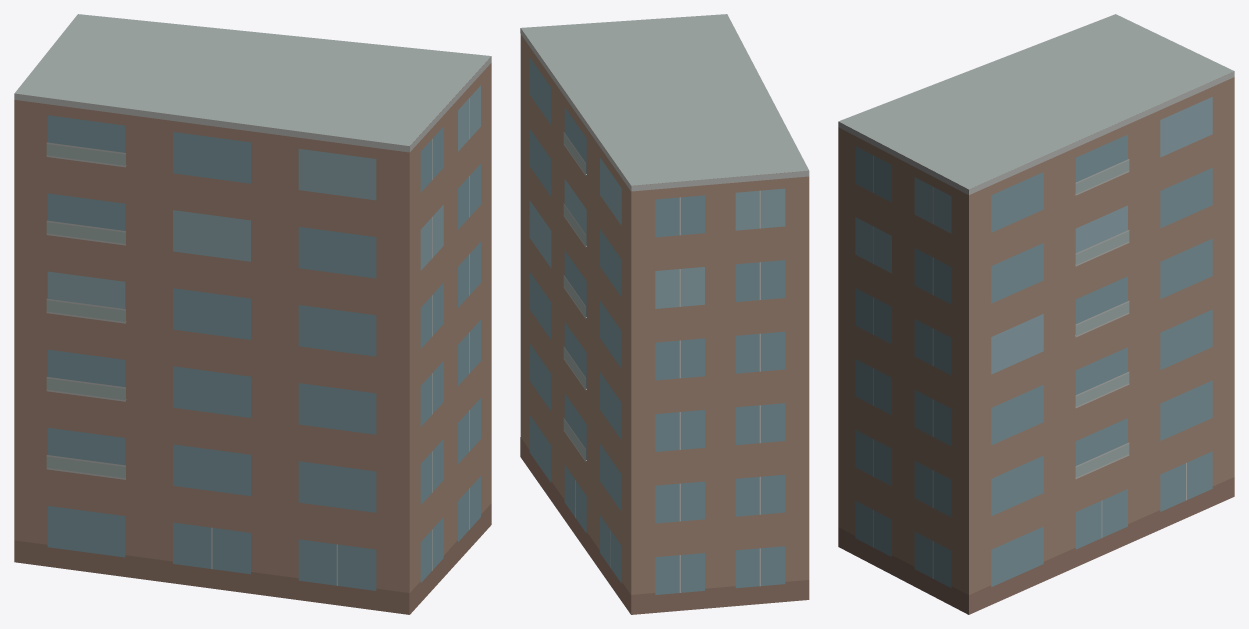
The model's file is survey-upis-32727617.glb.
3 renders of one model, left to right at view 1: azimuth 30°, elevation 25°; view 2: azimuth 150°, elevation 25°; view 3: azimuth 270°, elevation 25°, orthographic. The views are drawn at different scales.
Parts seen in each view (by area): view 1: survey-upis-32727617.tmp; view 2: survey-upis-32727617.tmp; view 3: survey-upis-32727617.tmp.
Part boxes in pixels (x1,y1,x2,y2): survey-upis-32727617.tmp: (14, 14, 491, 614); survey-upis-32727617.tmp: (520, 14, 809, 614); survey-upis-32727617.tmp: (838, 14, 1234, 614).
Size of the model in its own units: 16.02 by 18.1 by 15.29.
